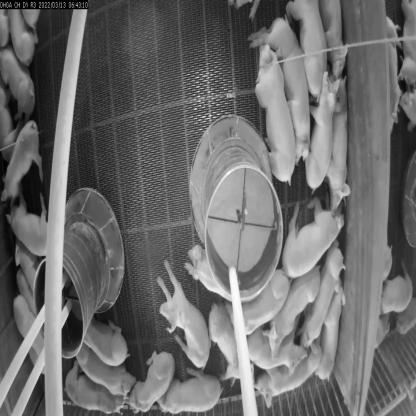Pig: (258, 0, 321, 181), (152, 254, 214, 379), (256, 43, 304, 204), (288, 190, 353, 281), (287, 0, 335, 101), (300, 65, 333, 186), (305, 235, 341, 342), (0, 122, 45, 206), (246, 321, 313, 376), (332, 68, 356, 214), (159, 364, 226, 416), (66, 358, 124, 416), (124, 342, 173, 408), (8, 196, 57, 260)
